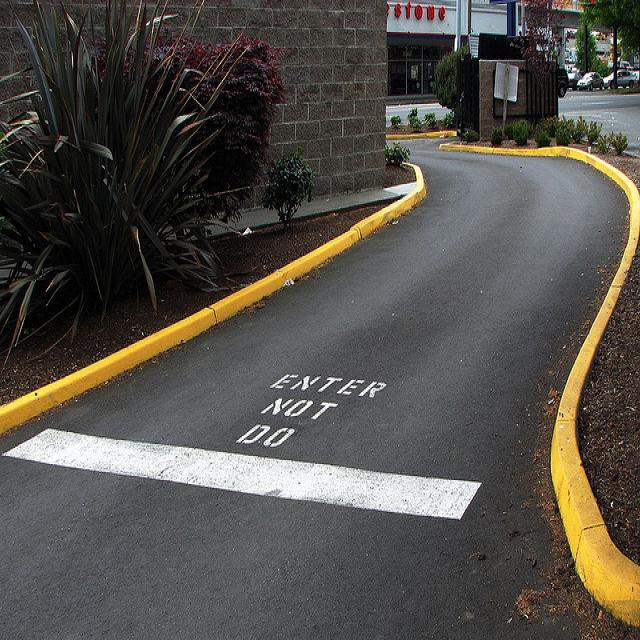Vehicle: (604, 69, 636, 90), (576, 73, 606, 91), (558, 68, 570, 99), (568, 73, 582, 90), (617, 61, 631, 69)
